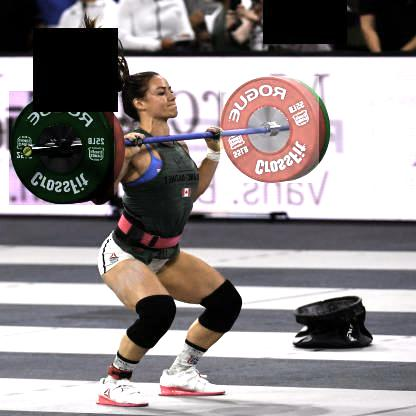barbell: (8, 91, 113, 206), (218, 77, 317, 183)
